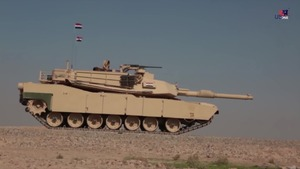abrams: (18, 61, 221, 133)
